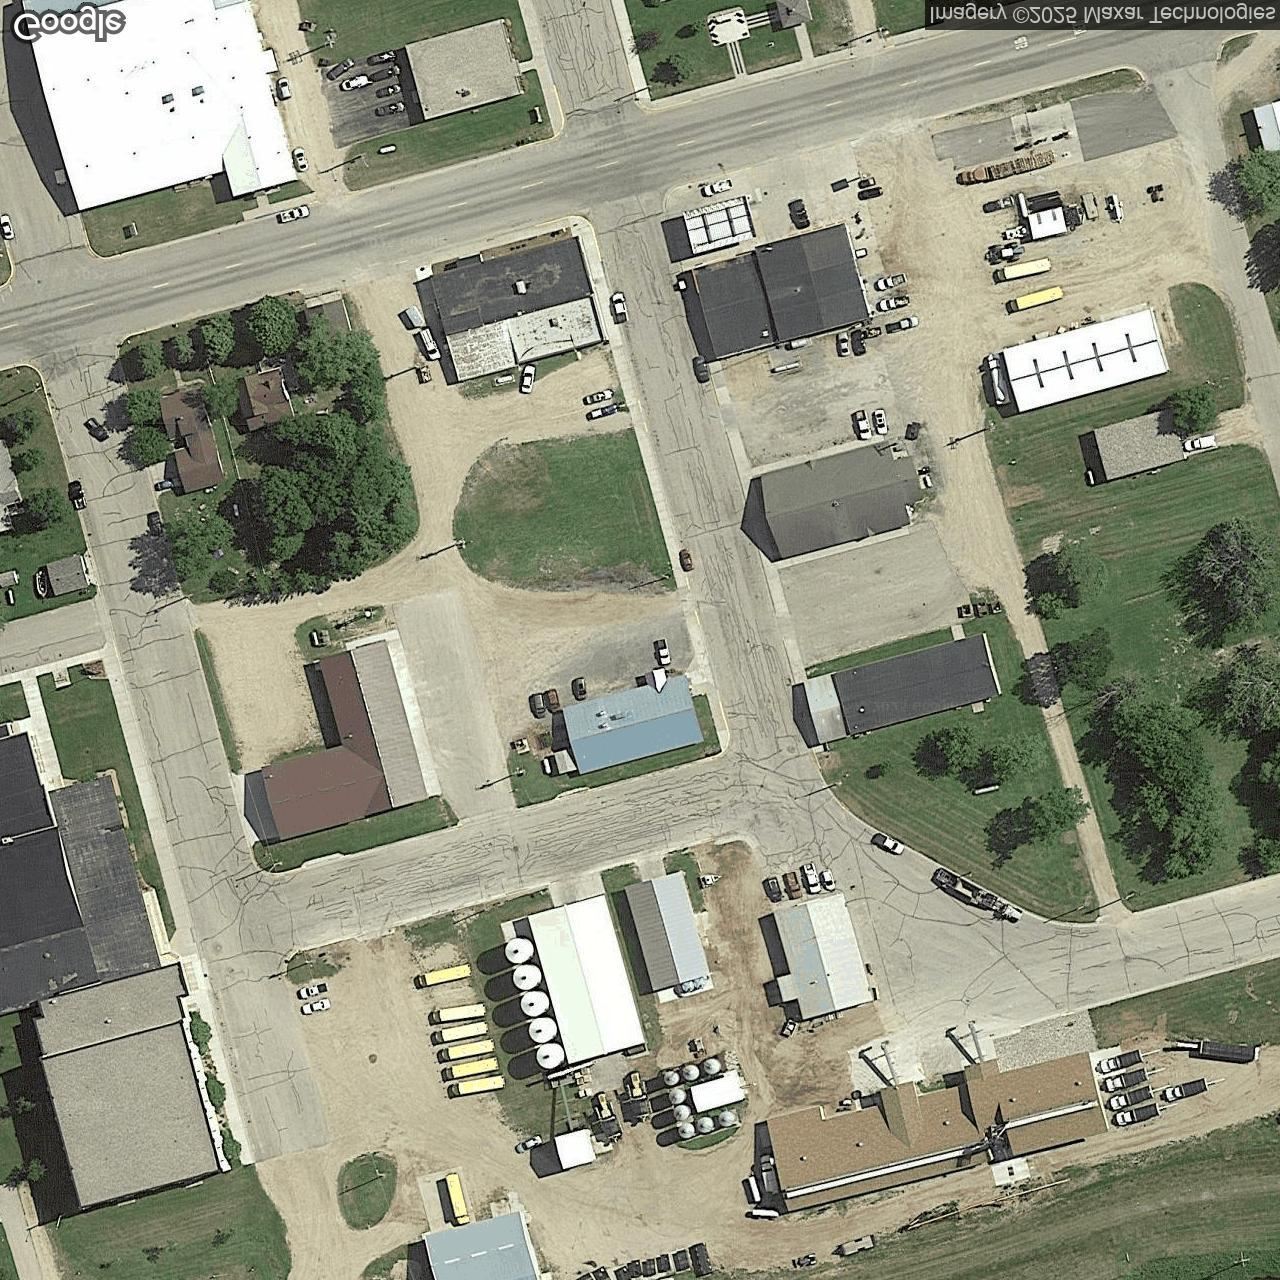Garage: (1094, 407, 1186, 481), (47, 554, 90, 597)
House: (767, 1050, 1108, 1212), (261, 639, 429, 839), (692, 222, 871, 359), (803, 633, 1001, 744), (529, 894, 646, 1064), (762, 440, 921, 558), (1002, 309, 1170, 413), (561, 668, 704, 775), (772, 892, 873, 1021), (625, 870, 709, 990), (423, 1211, 540, 1280), (159, 386, 226, 493), (236, 366, 295, 431)
Other: (21, 1, 298, 211), (33, 960, 220, 1210), (0, 730, 162, 1014), (431, 236, 607, 382), (404, 18, 523, 121)
Propane: (743, 1171, 765, 1206), (971, 781, 1003, 798), (1109, 191, 1124, 223), (1015, 191, 1032, 219), (771, 360, 801, 375), (749, 1207, 781, 1220), (375, 142, 399, 158), (493, 373, 516, 388), (1084, 467, 1098, 488), (5, 587, 18, 607), (922, 472, 935, 491)
